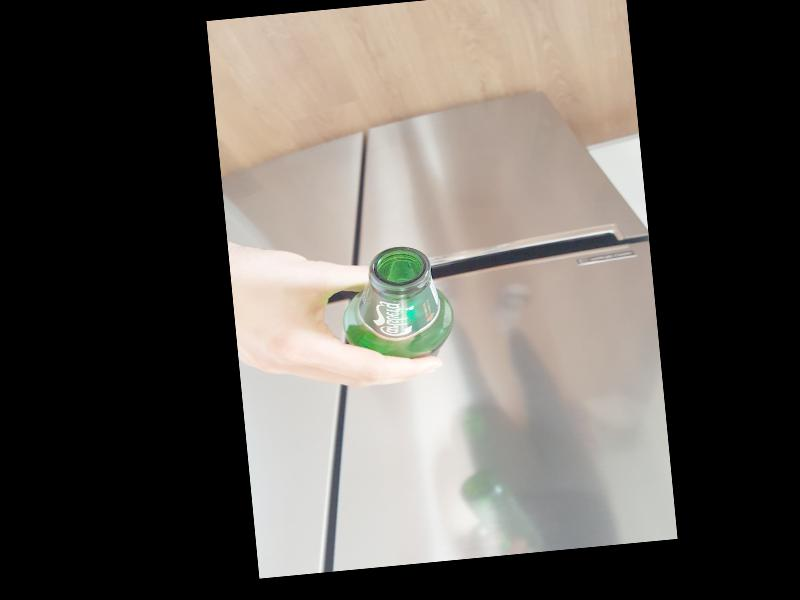Beer: (339, 241, 456, 364)
